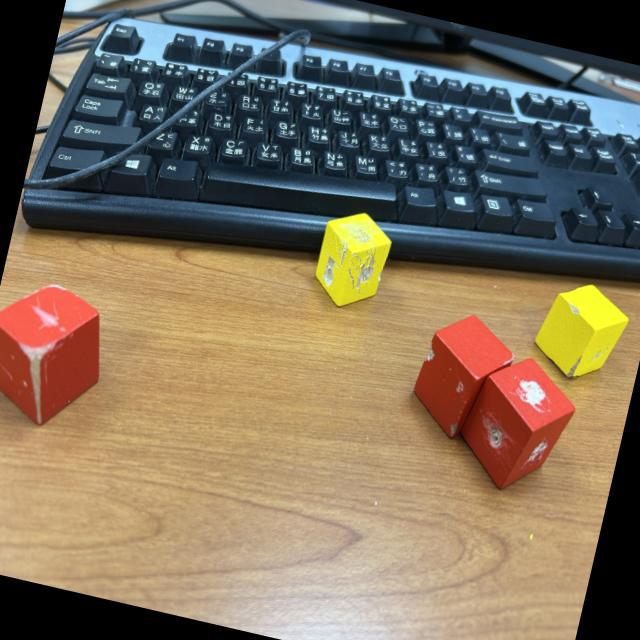broken: (448, 346, 584, 504), (0, 271, 118, 437), (404, 304, 522, 448), (526, 274, 635, 389), (308, 205, 398, 318)
